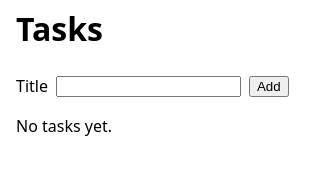
Scenario: TaskApp › lists tasks in creation order
This screenshot has width=320, height=178.
Type "first" into the field labelled "Title" at (148, 86), box [56,76,241,97]
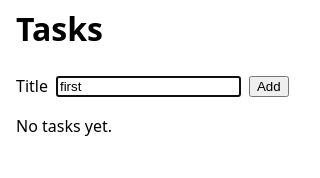
Click the button "Add" at (269, 86), box [249,76,289,97]
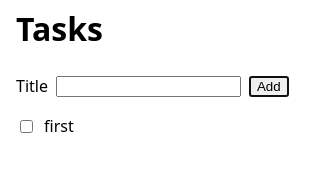
Type "second" into the field labelled "Title" at (148, 86), box [56,76,241,97]
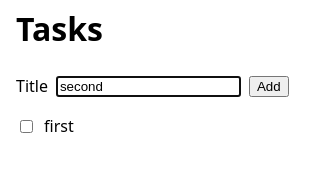
Click the button "Add" at (269, 86), box [249,76,289,97]
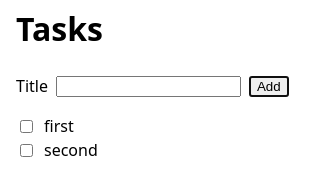
Result: the list named "Tasks" reads "first second" at [20,115,98,161]
